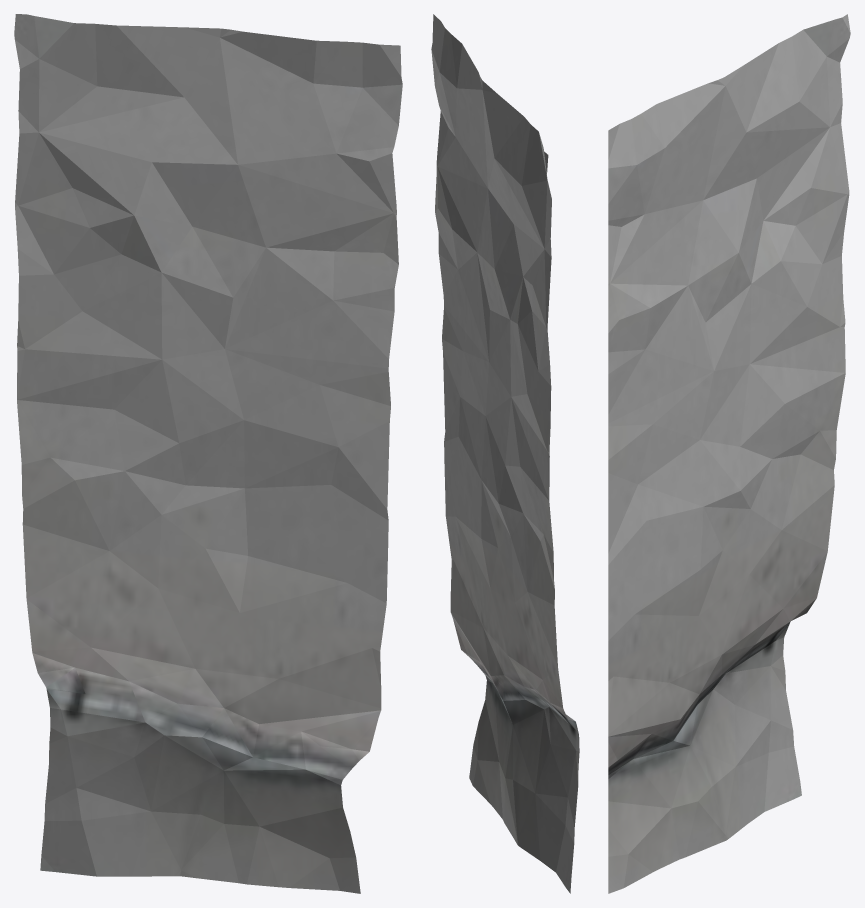
3 views of the same model, side by side, from view 1: azimuth 30°, elevation 25°; view 2: azimuth 150°, elevation 25°; view 3: azimuth 270°, elevation 25° (orthographic). The views are drawn at different scales.
Bounding box in the file's own units: 0.27 × 0.8374 × 0.2354.
Materials: 1 (1 with a texture image).
